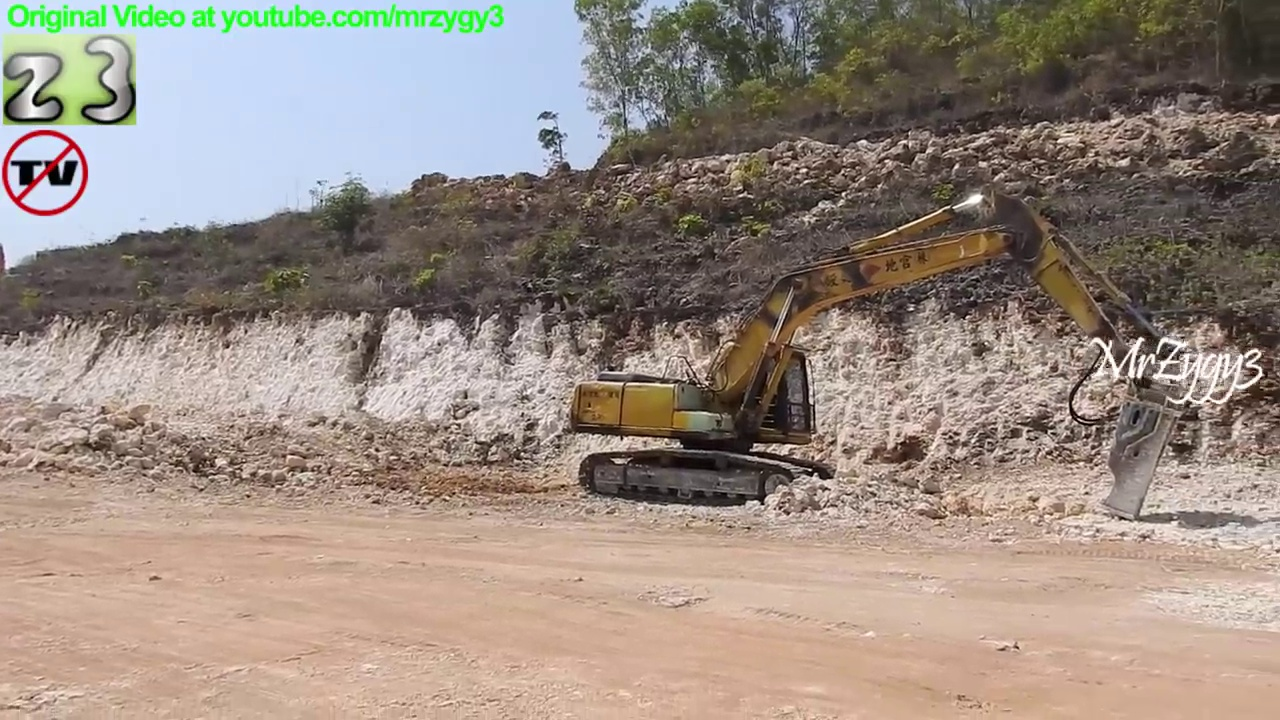excavator breaker: (564, 185, 1195, 530)
